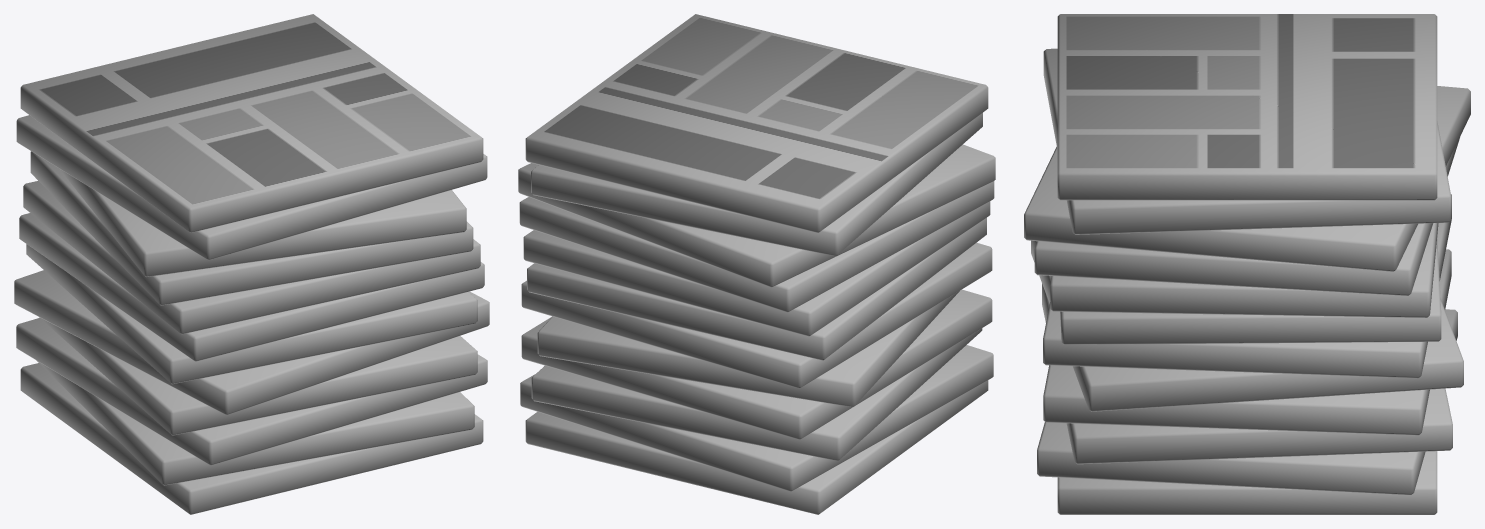
Rendered from NewPapers.fbx.
3 renders of one model, left to right at view 1: azimuth 30°, elevation 25°; view 2: azimuth 150°, elevation 25°; view 3: azimuth 270°, elevation 25°, orthographic. The views are drawn at different scales.
Parts seen in each view (by area): view 1: Cube.002; view 2: Cube.002; view 3: Cube.002.
Part boxes in pixels (x1=…): Cube.002: x1=14, y1=14, x2=489, y2=514; Cube.002: x1=518, y1=14, x2=995, y2=514; Cube.002: x1=1024, y1=14, x2=1470, y2=514.
Bounding box in the file's own units: 235 × 199 × 235.
